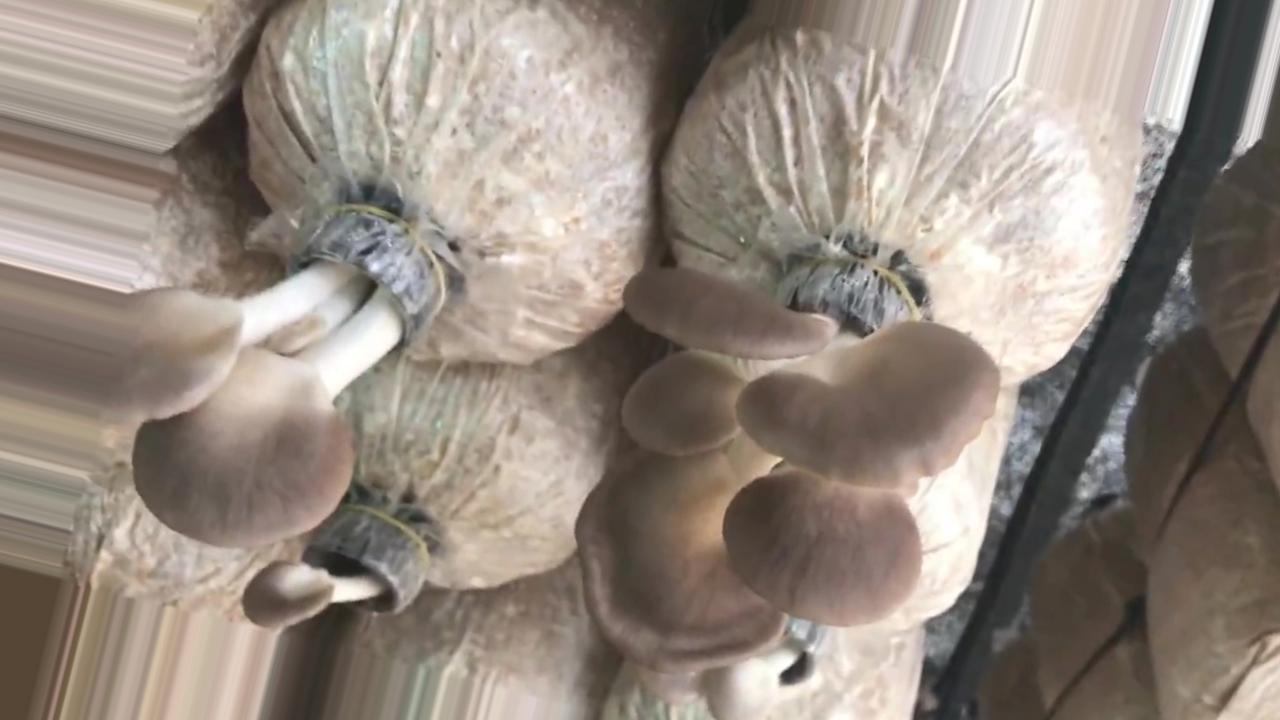nam: (578, 256, 998, 670), (1, 205, 440, 545), (243, 510, 430, 630)
